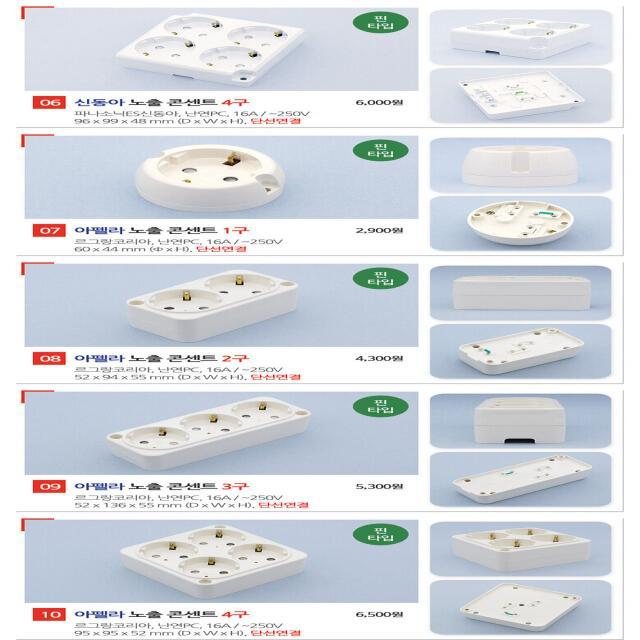typeb: (65, 392, 336, 478), (55, 138, 336, 218), (105, 5, 351, 88), (95, 514, 331, 594), (103, 270, 336, 342)
